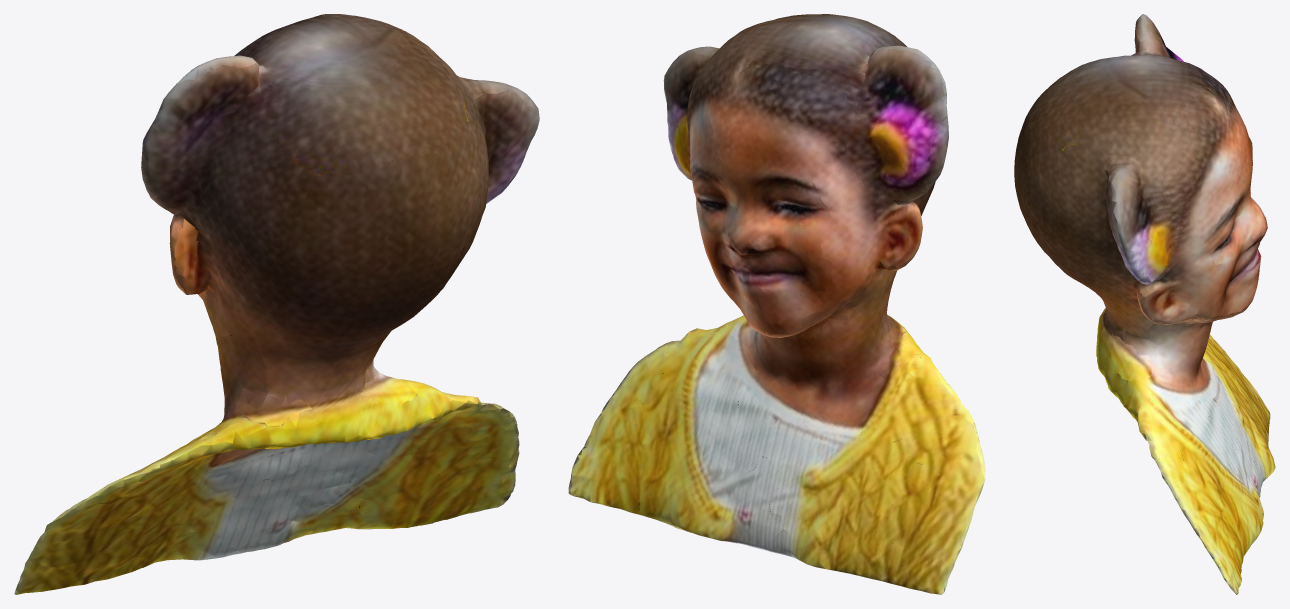
3 renders of one model, left to right at view 1: azimuth 30°, elevation 25°; view 2: azimuth 150°, elevation 25°; view 3: azimuth 270°, elevation 25°, orthographic. The views are drawn at different scales.
Parts seen in each view (by area): view 1: world; view 2: world; view 3: world.
Part boxes in pixels (left/top/right/bottom): world: left=14, top=14, right=539, bottom=594; world: left=568, top=14, right=985, bottom=594; world: left=1014, top=14, right=1275, bottom=594.
Bounding box in the file's own units: 0.8523 × 0.98 × 0.5192.
Materials: 1 (1 with a texture image).
